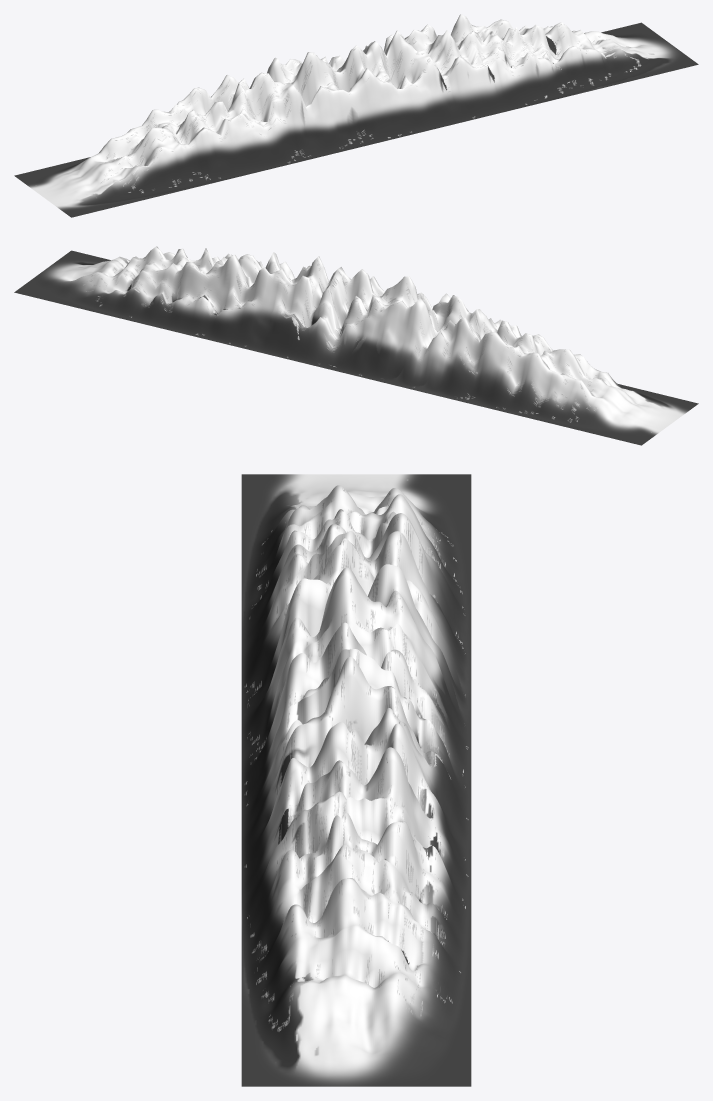
Rendered from mountain_1.glb.
3 renders of one model, top to bottom at view 1: azimuth 30°, elevation 25°; view 2: azimuth 150°, elevation 25°; view 3: azimuth 270°, elevation 25°, orthographic. The views are drawn at different scales.
Visible parts, largest first — view 1: Landscape.001; view 2: Landscape.001; view 3: Landscape.001.
Boxes of the visible parts, <box> form: Landscape.001: <box>14,14,698,217</box>; Landscape.001: <box>14,246,698,445</box>; Landscape.001: <box>241,474,471,1086</box>.
Bounding box in the file's own units: 27.2 × 3.4 × 4.31.
1 material, 1 textured.
